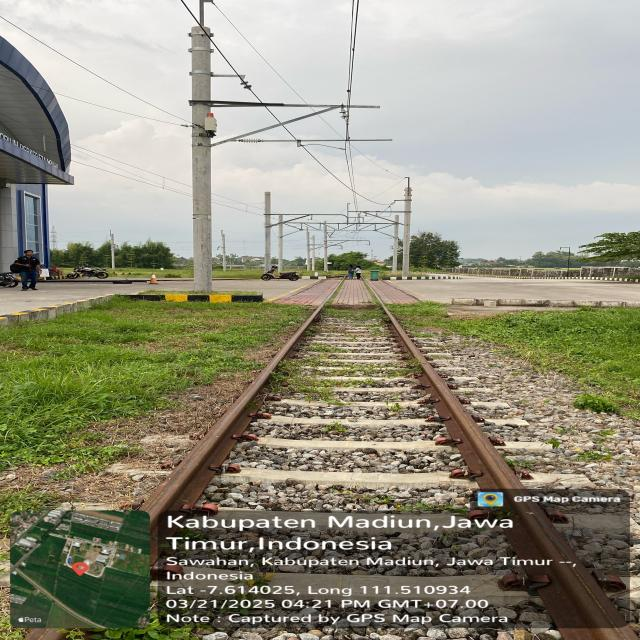rail-detection: (380, 303, 637, 640), (140, 305, 322, 537)
